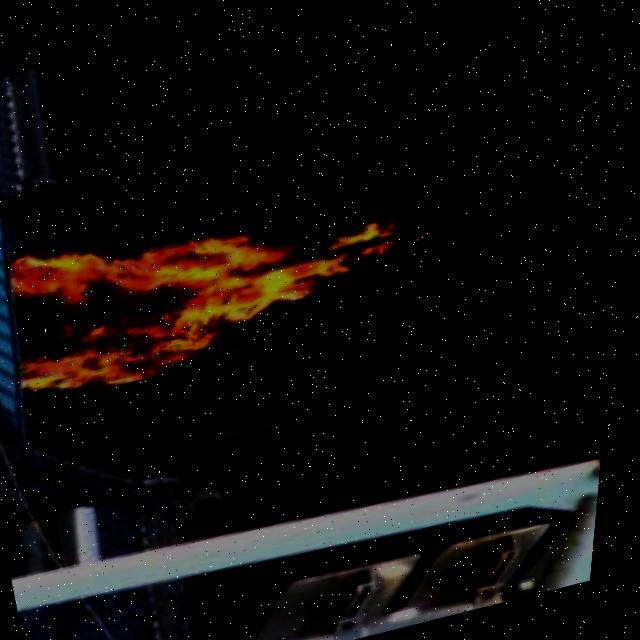Fire: (0, 156, 416, 422)
